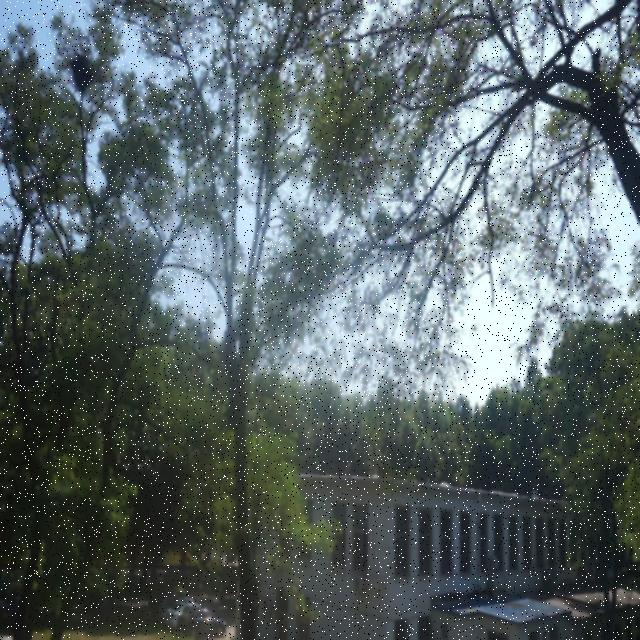UAV: (406, 493, 414, 498)
